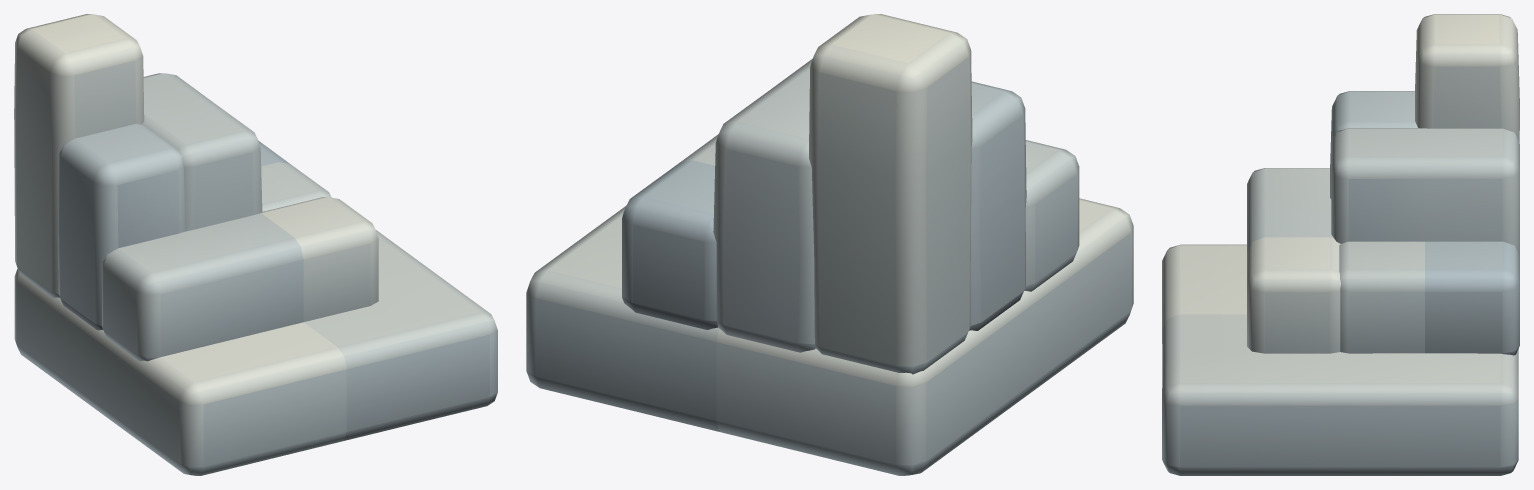
File: Quartz_4x4_Stair_Outer.fbx
3 renders of one model, left to right at view 1: azimuth 30°, elevation 25°; view 2: azimuth 150°, elevation 25°; view 3: azimuth 270°, elevation 25°, orthographic. The views are drawn at different scales.
Parts seen in each view (by area): view 1: Quartz_4x4_Stair_Outer_LOD0; view 2: Quartz_4x4_Stair_Outer_LOD0; view 3: Quartz_4x4_Stair_Outer_LOD0.
Part boxes in pixels (x1,y1,x2,y2): Quartz_4x4_Stair_Outer_LOD0: (14, 14, 497, 475); Quartz_4x4_Stair_Outer_LOD0: (526, 14, 1133, 475); Quartz_4x4_Stair_Outer_LOD0: (1162, 14, 1519, 475).
Size of what is drawn, in the model's own units: 1.06 by 1.05 by 1.05.
